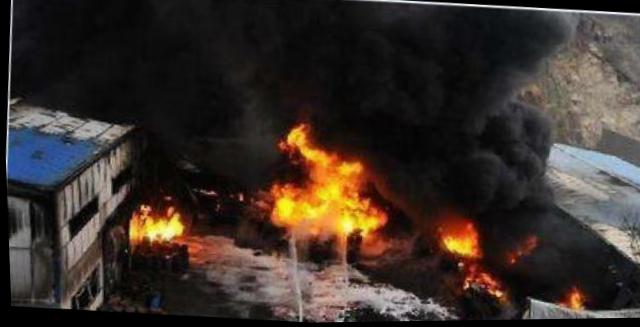fire: (298, 148, 359, 234), (126, 201, 180, 240), (262, 182, 302, 224), (435, 217, 476, 257), (353, 197, 382, 233), (282, 122, 307, 149), (564, 288, 577, 307)
smoke: (3, 0, 580, 143), (358, 124, 559, 209), (124, 107, 281, 178), (480, 208, 624, 278)
